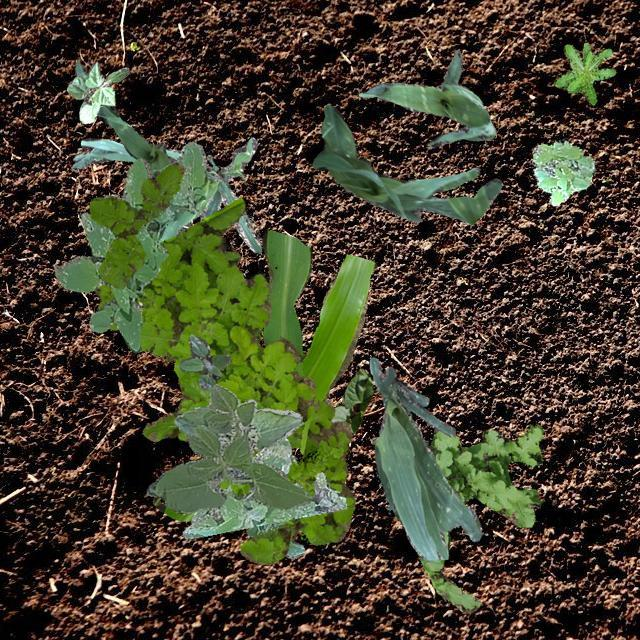crop: (152, 228, 376, 520), (368, 356, 482, 558), (312, 104, 500, 224), (70, 136, 260, 252), (146, 382, 310, 512), (74, 61, 220, 180), (358, 50, 494, 146), (66, 61, 128, 122), (330, 368, 372, 434)
weed: (93, 196, 354, 564), (51, 140, 206, 352), (142, 327, 302, 492), (418, 423, 542, 612), (182, 437, 346, 538), (89, 162, 184, 288), (246, 453, 304, 558), (530, 140, 594, 204), (552, 42, 614, 104), (178, 334, 230, 389)
